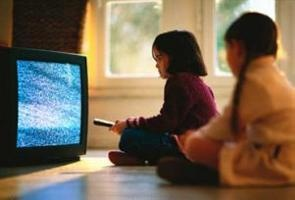person without safety: (219, 8, 295, 151), (136, 29, 211, 111)
